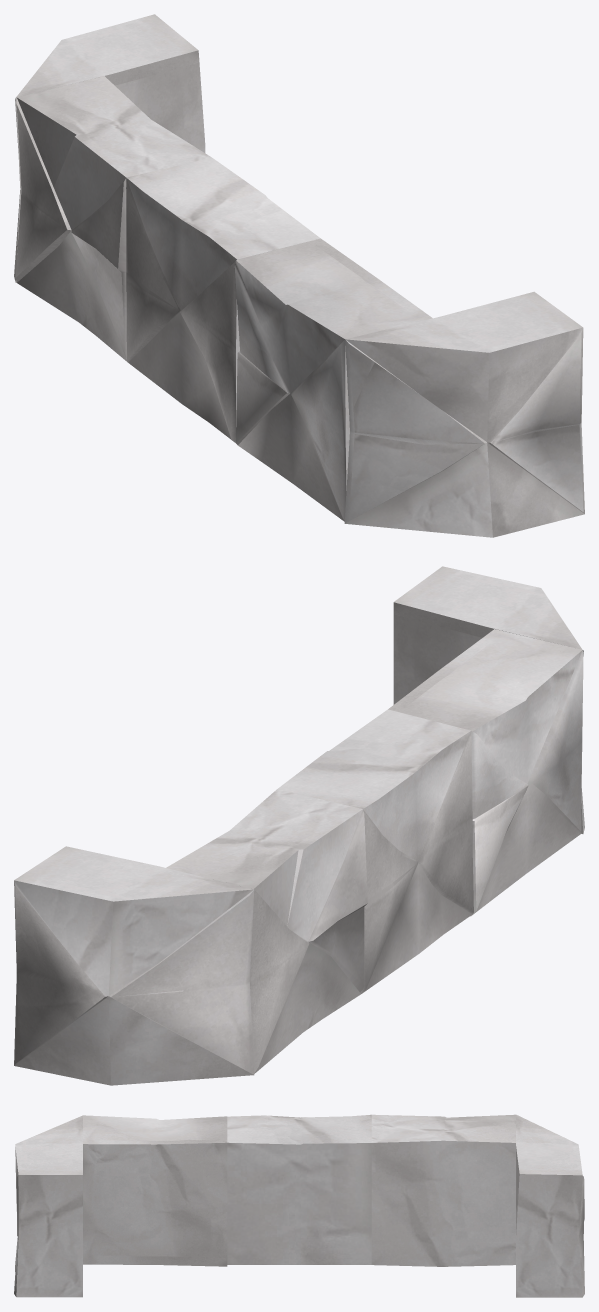
Rendered from Barra.FBX.
The picture shows the model from 3 angles, top to bottom: view 1: azimuth 30°, elevation 25°; view 2: azimuth 150°, elevation 25°; view 3: azimuth 270°, elevation 25°; orthographic projection. The views are drawn at different scales.
Visible parts, largest first — view 1: Barra; view 2: Barra; view 3: Barra.
Boxes of the visible parts, x1,y1,x2,y2 form: Barra: (14, 14, 584, 537); Barra: (14, 566, 584, 1085); Barra: (14, 1114, 584, 1297).
Bounding box in the file's own units: 157 × 145 × 604.
